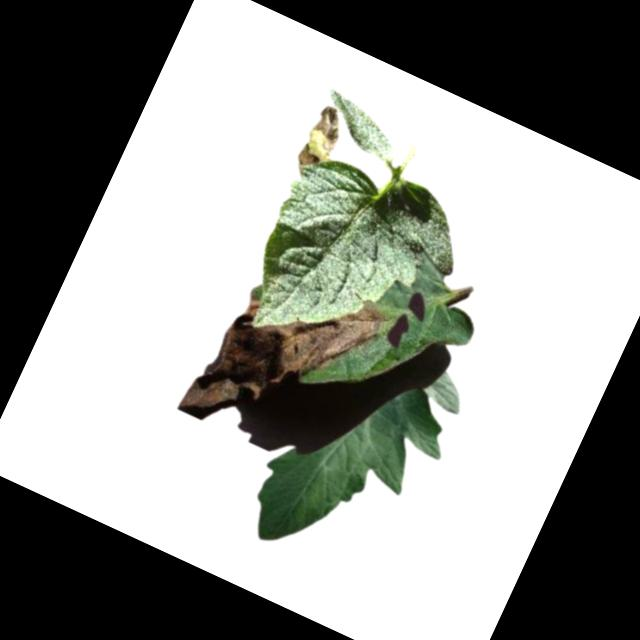Late_blight: (236, 344, 459, 592), (179, 251, 388, 469), (290, 103, 352, 183)
healthy: (231, 145, 447, 378), (377, 179, 479, 274), (306, 83, 411, 165)
